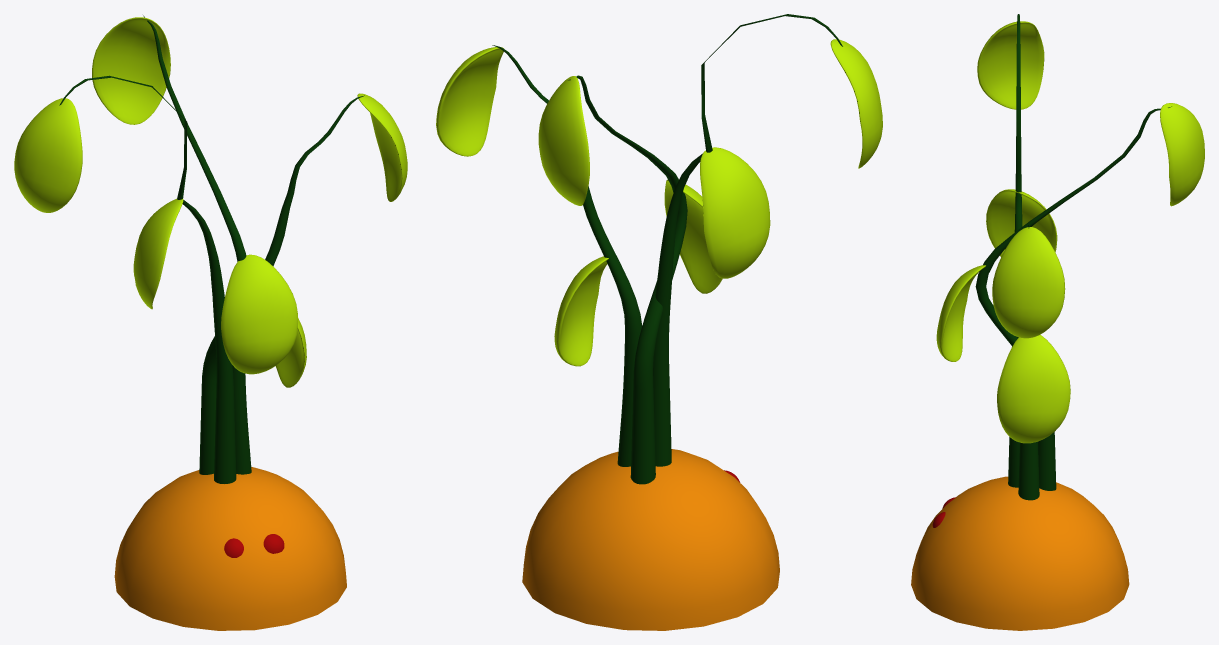
File: ColoredEyes1.fbx
3 renders of one model, left to right at view 1: azimuth 30°, elevation 25°; view 2: azimuth 150°, elevation 25°; view 3: azimuth 270°, elevation 25°, orthographic. The views are drawn at different scales.
Visible parts, largest first — view 1: pSphere1, pasted__pasted__pSphere2 (×3), pasted__pCone1 (×2), pSphere2, pCone1, pasted__pSphere2, pasted__pasted__pasted__pSphere2; view 2: pSphere1, pasted__pasted__pSphere2 (×3), pasted__pCone1 (×2), pasted__pSphere2, pCone1, pasted__pasted__pasted__pSphere2, pSphere2; view 3: pSphere1, pasted__pasted__pSphere2 (×3), pasted__pasted__pasted__pSphere2, pSphere2, pasted__pCone1 (×2), pasted__pSphere2, pCone1.
Boxes of the visible parts, box(x1,y1,x2,y2) form: pSphere1: box(114, 467, 346, 630); pasted__pasted__pSphere2 (×3): box(92, 17, 407, 374); pasted__pCone1 (×2): box(143, 15, 364, 474); pSphere2: box(14, 98, 82, 212); pCone1: box(59, 75, 236, 483); pasted__pSphere2: box(133, 198, 183, 309); pasted__pasted__pasted__pSphere2: box(275, 318, 306, 387); pSphere1: box(522, 449, 779, 630); pasted__pasted__pSphere2 (×3): box(436, 47, 722, 293); pasted__pCone1 (×2): box(492, 45, 687, 484); pasted__pSphere2: box(700, 147, 770, 278); pCone1: box(653, 14, 842, 466); pasted__pasted__pasted__pSphere2: box(554, 256, 608, 366); pSphere2: box(830, 39, 882, 168); pSphere1: box(911, 476, 1129, 630); pasted__pasted__pSphere2 (×3): box(936, 103, 1204, 361); pasted__pasted__pasted__pSphere2: box(997, 335, 1070, 443); pSphere2: box(977, 21, 1044, 109); pasted__pCone1 (×2): box(975, 106, 1171, 500); pasted__pSphere2: box(986, 189, 1057, 256); pCone1: box(1008, 14, 1022, 487).
Size of the model in its own units: 3.79 by 5.09 by 2.69.
